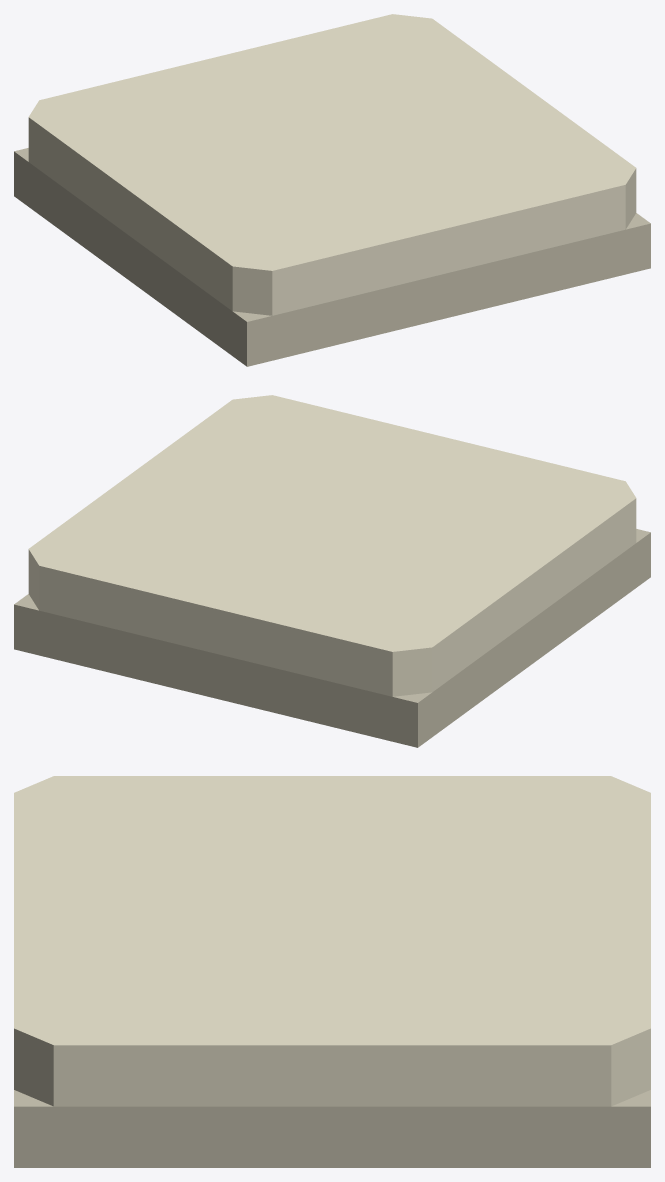
File: modularBuildings_002.fbx
3 views of the same model, one above another, from view 1: azimuth 30°, elevation 25°; view 2: azimuth 150°, elevation 25°; view 3: azimuth 270°, elevation 25° (orthographic). The views are drawn at different scales.
Parts seen in each view (by area): view 1: Brick.Mesh1 Group1 Model, Dark_brick; view 2: Brick.Mesh1 Group1 Model, Dark_brick; view 3: Brick.Mesh1 Group1 Model, Dark_brick.
Boxes of the visible parts, x1=… form: Brick.Mesh1 Group1 Model: x1=28, y1=14, x2=636, y2=315; Dark_brick: x1=14, y1=148, x2=650, y2=366; Brick.Mesh1 Group1 Model: x1=28, y1=395, x2=636, y2=696; Dark_brick: x1=14, y1=529, x2=650, y2=747; Brick.Mesh1 Group1 Model: x1=14, y1=776, x2=650, y2=1106; Dark_brick: x1=14, y1=1090, x2=650, y2=1167.
Bounding box in the file's own units: 1 × 0.2125 × 1.
